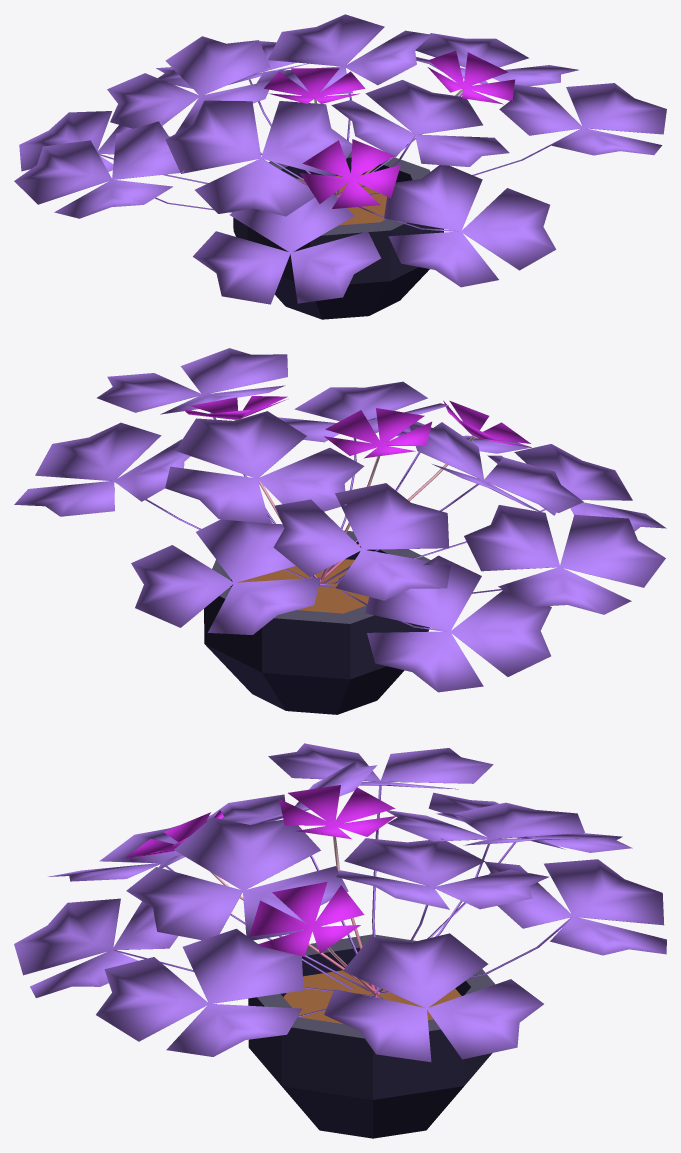
Rendered from pfp20.fbx.
3 renders of one model, top to bottom at view 1: azimuth 30°, elevation 25°; view 2: azimuth 150°, elevation 25°; view 3: azimuth 270°, elevation 25°, orthographic. The views are drawn at different scales.
Visible parts, largest first — view 1: pfp20; view 2: pfp20; view 3: pfp20.
Part boxes in pixels (x1=…): pfp20: x1=14, y1=14, x2=666, y2=319; pfp20: x1=14, y1=348, x2=666, y2=714; pfp20: x1=14, y1=743, x2=666, y2=1138.
Size of the model in its own units: 83.42 by 33.41 by 71.64.
